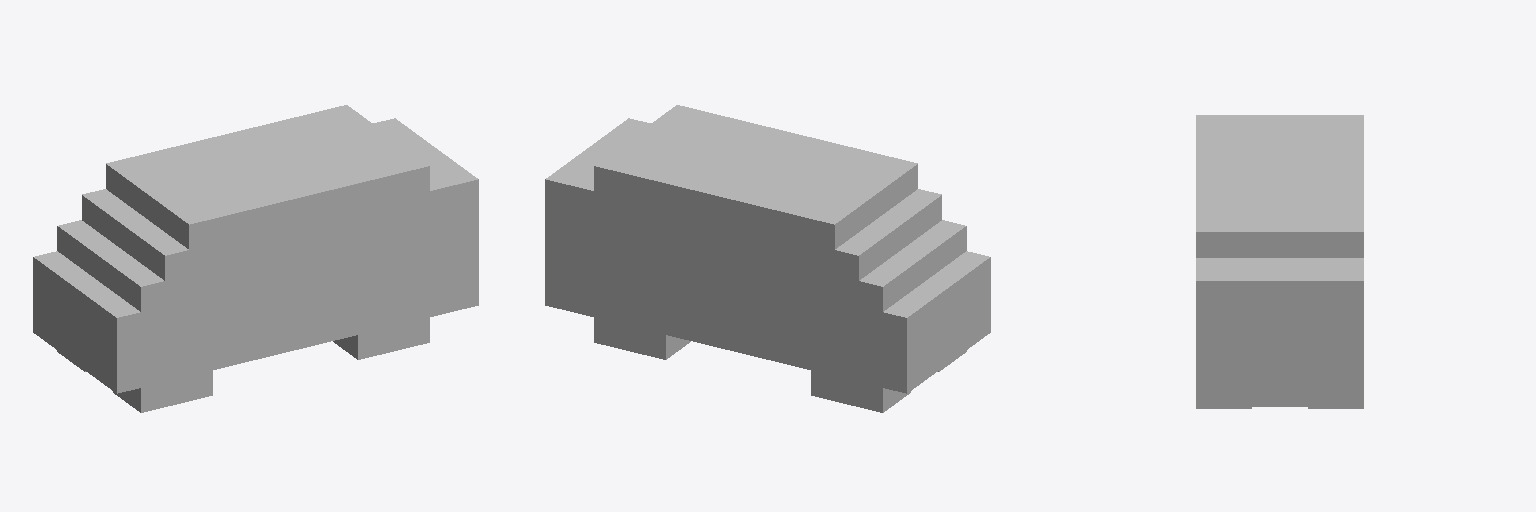
Rendered from car2.obj.
The picture shows the model from 3 angles: view 1: azimuth 30°, elevation 25°; view 2: azimuth 150°, elevation 25°; view 3: azimuth 270°, elevation 25°; orthographic projection.
Parts seen in each view (by area): view 1: object 1; view 2: object 1; view 3: object 1.
Part boxes in pixels (bbox=[...]): object 1: bbox=[33, 105, 478, 412]; object 1: bbox=[545, 105, 990, 412]; object 1: bbox=[1196, 115, 1363, 408].
Bounding box in the file's own units: 1.5 × 0.7 × 0.6.